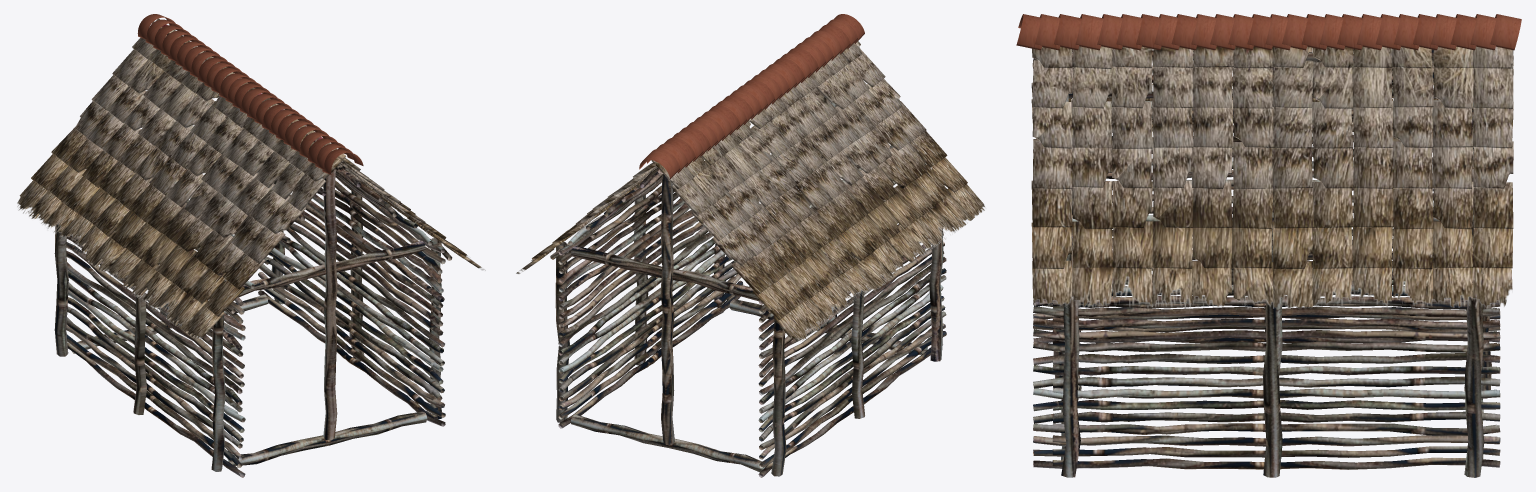
The model's file is primitive_hut_1a_barn.glb.
3 views of the same model, side by side, from view 1: azimuth 30°, elevation 25°; view 2: azimuth 150°, elevation 25°; view 3: azimuth 270°, elevation 25° (orthographic). The views are drawn at different scales.
Parts seen in each view (by area): view 1: Object_2; view 2: Object_2; view 3: Object_2.
Boxes of the visible parts, <box> form: Object_2: <box>17,14,485,477</box>; Object_2: <box>516,14,985,477</box>; Object_2: <box>1016,14,1521,477</box>.
Size of the model in its own units: 605 by 608 by 707.
Materials: 1 (1 with a texture image).
